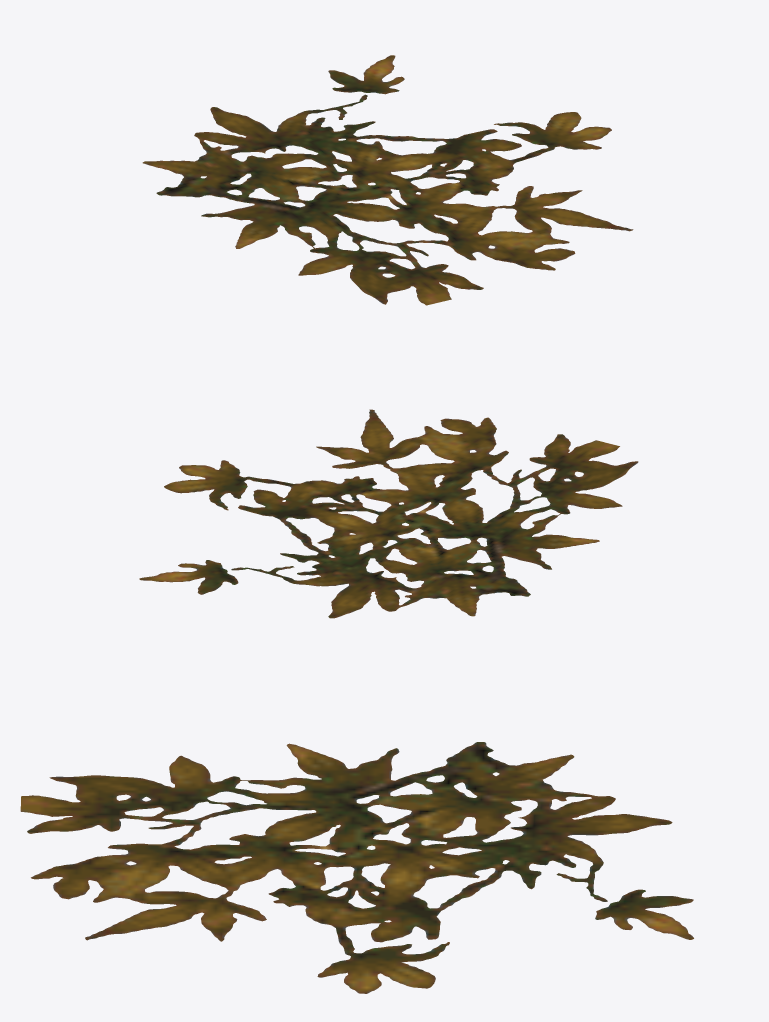
The model's file is 7003_Item_luoye_2.FBX.
The picture shows the model from 3 angles, top to bottom: view 1: azimuth 30°, elevation 25°; view 2: azimuth 150°, elevation 25°; view 3: azimuth 270°, elevation 25°; orthographic projection. The views are drawn at different scales.
Parts seen in each view (by area): view 1: 7003_Item_luoye_2; view 2: 7003_Item_luoye_2; view 3: 7003_Item_luoye_2.
Boxes of the visible parts, x1,y1,x2,y2 form: 7003_Item_luoye_2: (142, 55, 633, 305); 7003_Item_luoye_2: (139, 409, 638, 618); 7003_Item_luoye_2: (20, 742, 693, 993).
Size of the model in its own units: 83.62 by 87.8 by 0.0162.
1 material, 1 textured.
